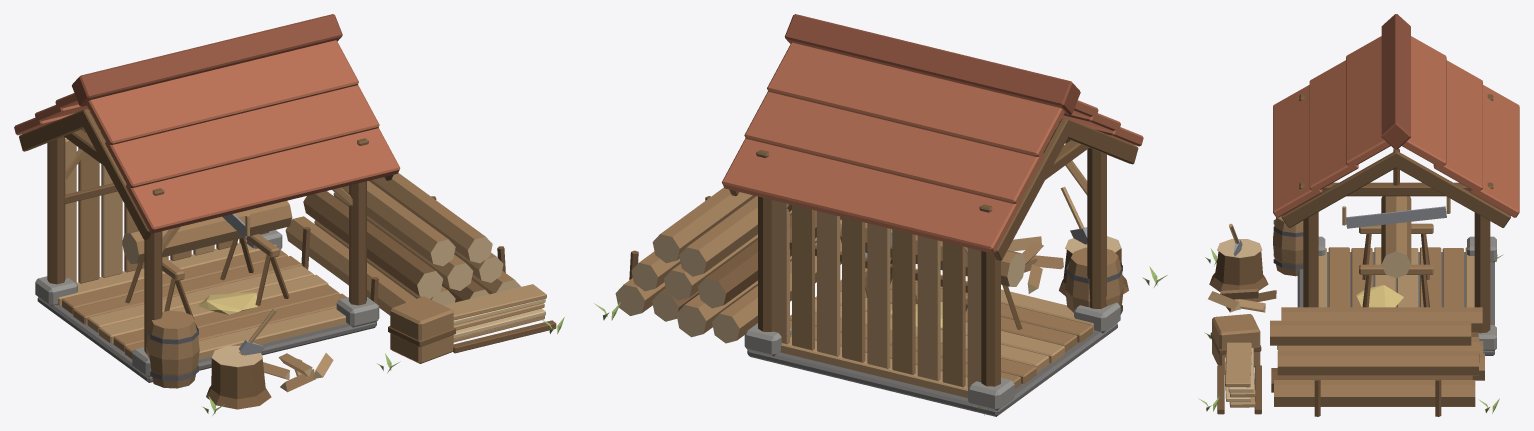
File: lumber_camp_2.glb
3 views of the same model, side by side, from view 1: azimuth 30°, elevation 25°; view 2: azimuth 150°, elevation 25°; view 3: azimuth 270°, elevation 25° (orthographic). The views are drawn at different scales.
Parts seen in each view (by area): view 1: LumberCamp; view 2: LumberCamp; view 3: LumberCamp.
Part boxes in pixels (left/top/right/bottom): LumberCamp: left=14, top=14, right=564, bottom=415; LumberCamp: left=594, top=14, right=1167, bottom=416; LumberCamp: left=1198, top=14, right=1519, bottom=416.
Size of the model in its own units: 5.28 by 3.54 by 4.32.
